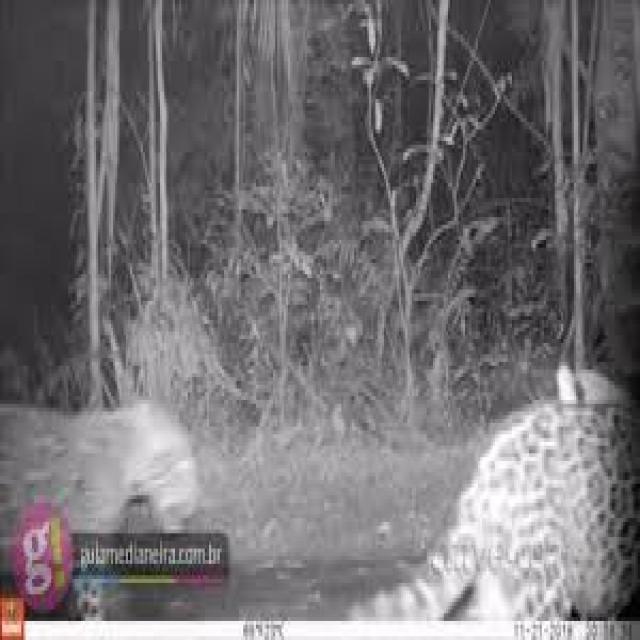Jaguar: (441, 343, 640, 640), (0, 377, 203, 530)
